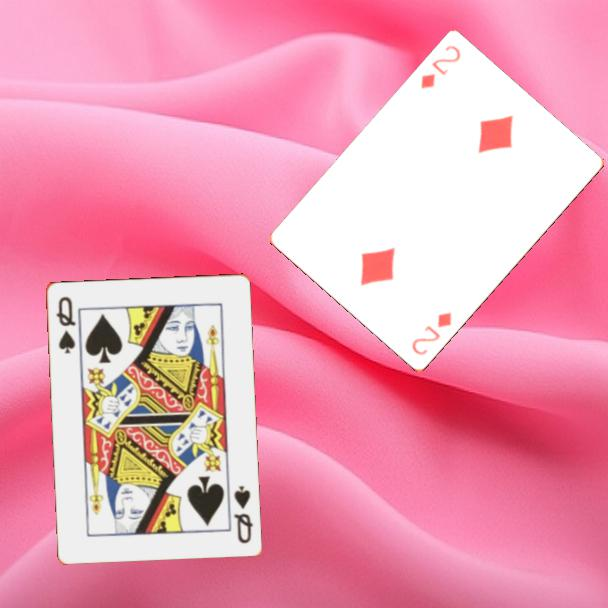d02: (417, 42, 464, 93), (408, 309, 455, 359)
s12: (230, 482, 255, 546), (53, 293, 78, 356)
